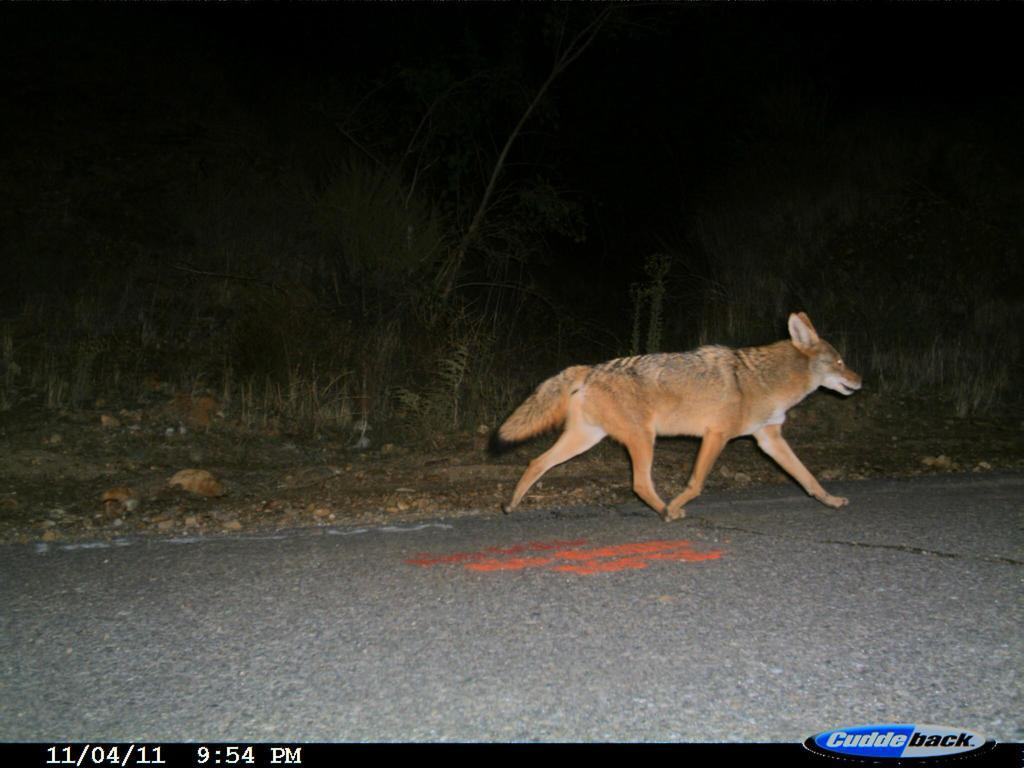coyote: (492, 305, 873, 532)
